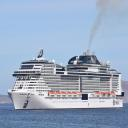cruises: (8, 49, 126, 112)
